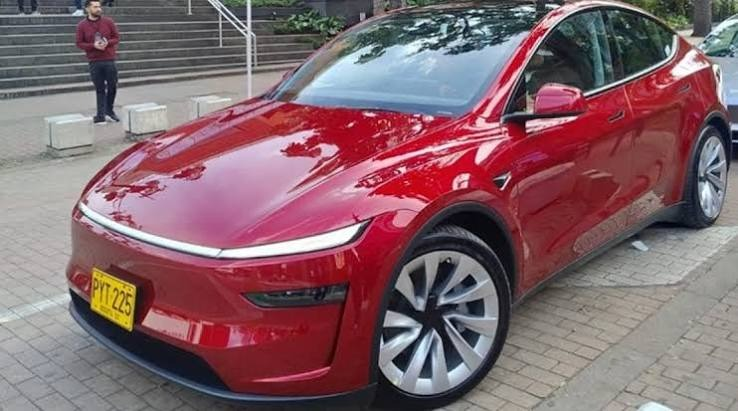car: (37, 2, 736, 407), (56, 2, 730, 402)
